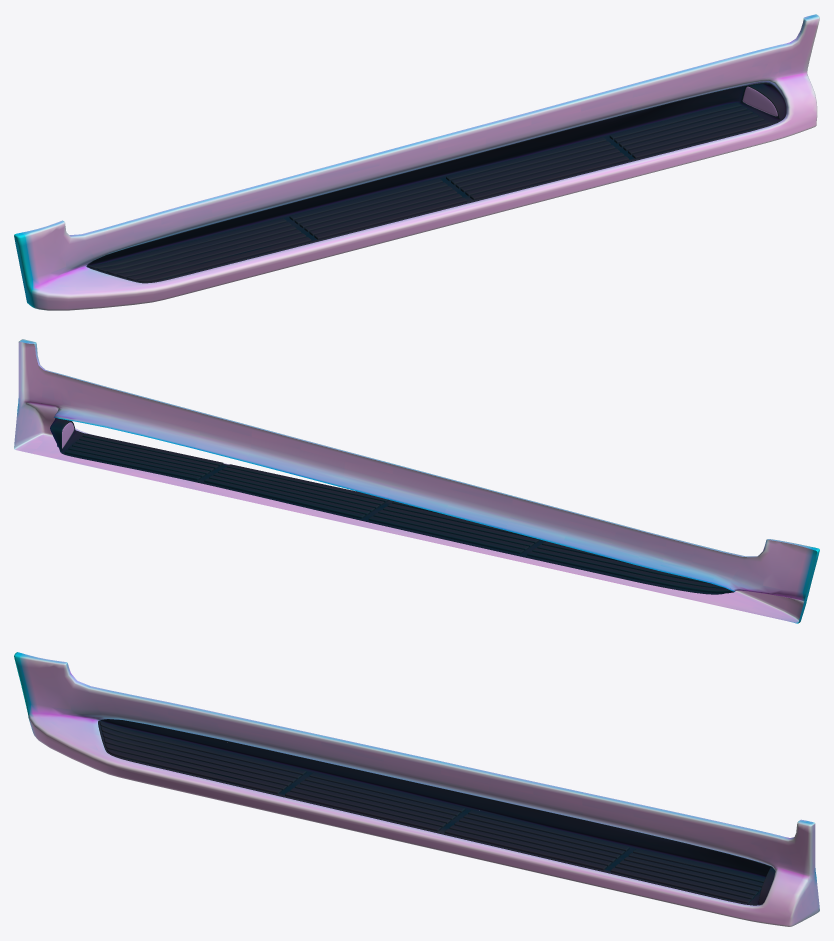
File: side_step_L.glb
The picture shows the model from 3 angles, top to bottom: view 1: azimuth 30°, elevation 25°; view 2: azimuth 150°, elevation 25°; view 3: azimuth 330°, elevation 25°; orthographic projection.
Visible parts, largest first — view 1: carpaint_6, black_10, clearglass_27; view 2: carpaint_6, black_10; view 3: carpaint_6, black_10.
Boxes of the visible parts, x1,y1,x2,y2 form: carpaint_6: [14, 14, 819, 310]; black_10: [86, 82, 786, 283]; clearglass_27: [742, 86, 777, 116]; carpaint_6: [14, 339, 819, 623]; black_10: [50, 418, 733, 594]; carpaint_6: [14, 652, 819, 926]; black_10: [98, 719, 775, 905].
Size of the model in its own units: 1.91 by 0.2319 by 0.1972.
